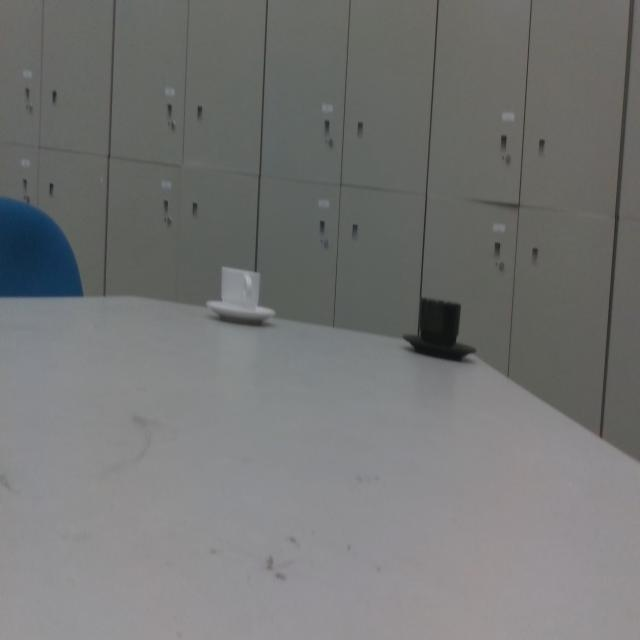black: (401, 296, 479, 362)
white: (204, 264, 277, 328)
